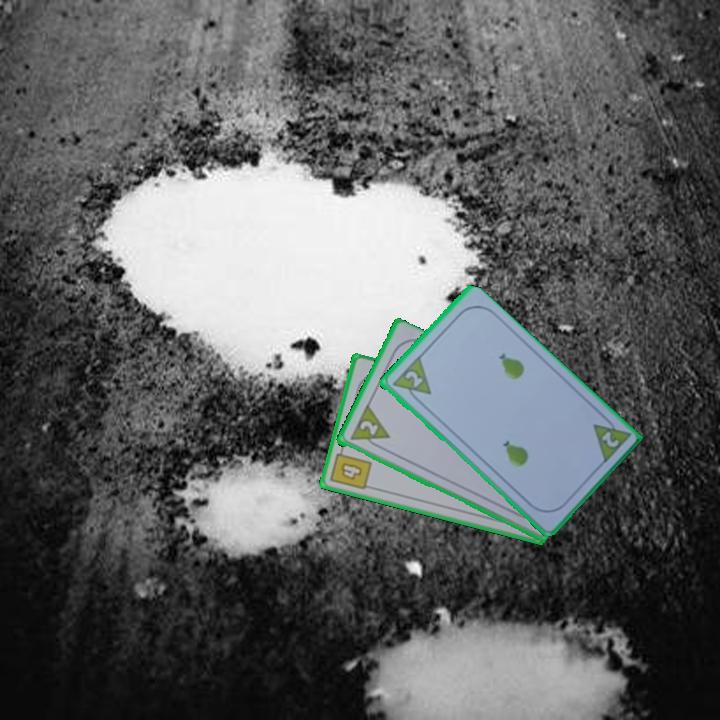2p: (388, 354, 434, 407), (597, 428, 622, 451), (356, 417, 381, 439)
4b: (327, 443, 374, 493)
